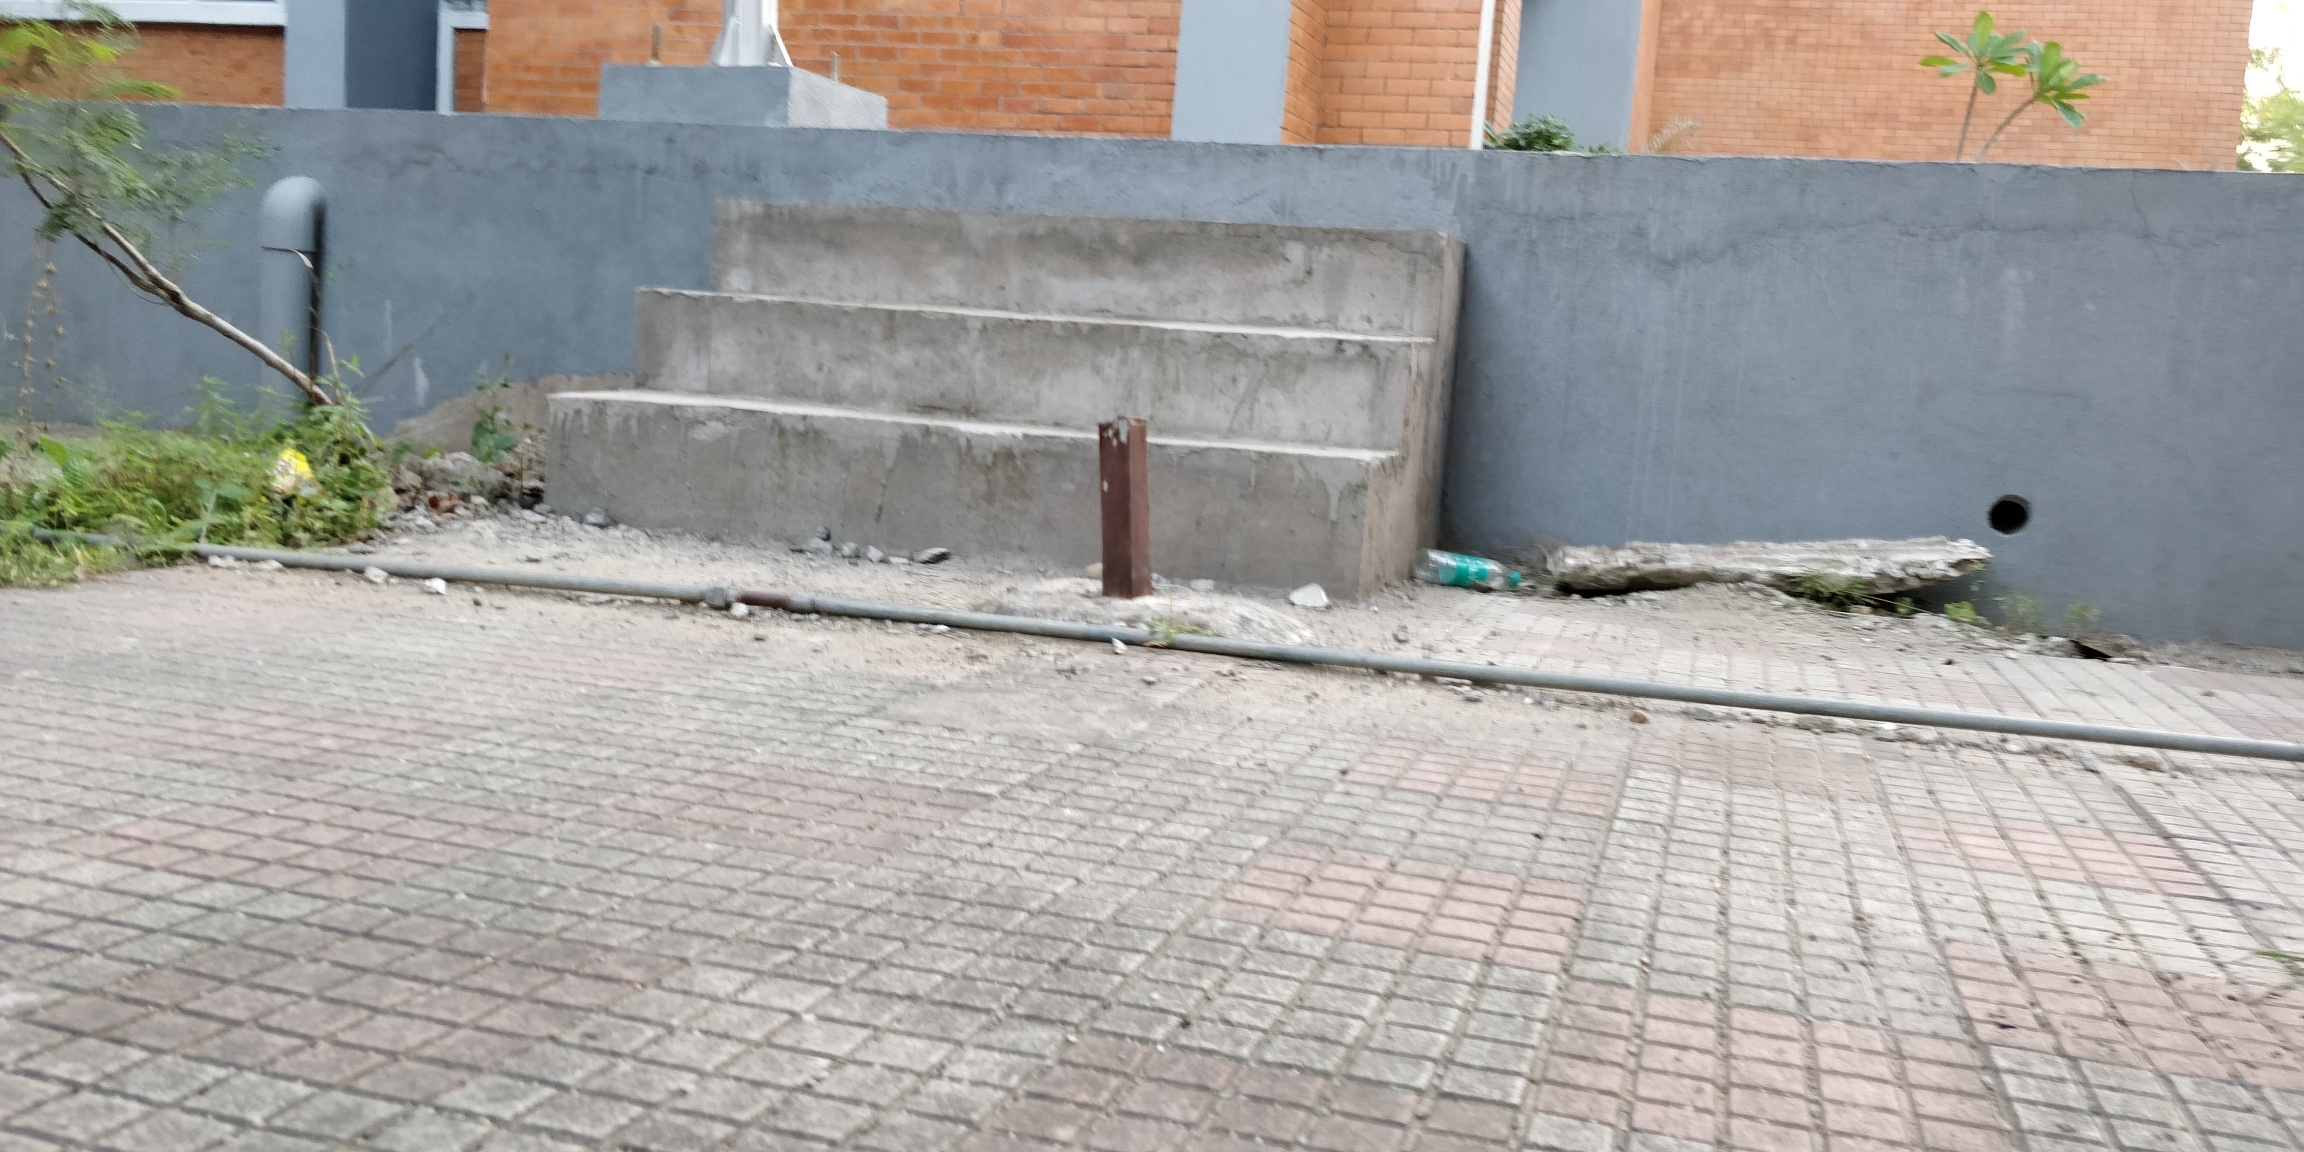stairs_up: (525, 229, 1466, 583)
